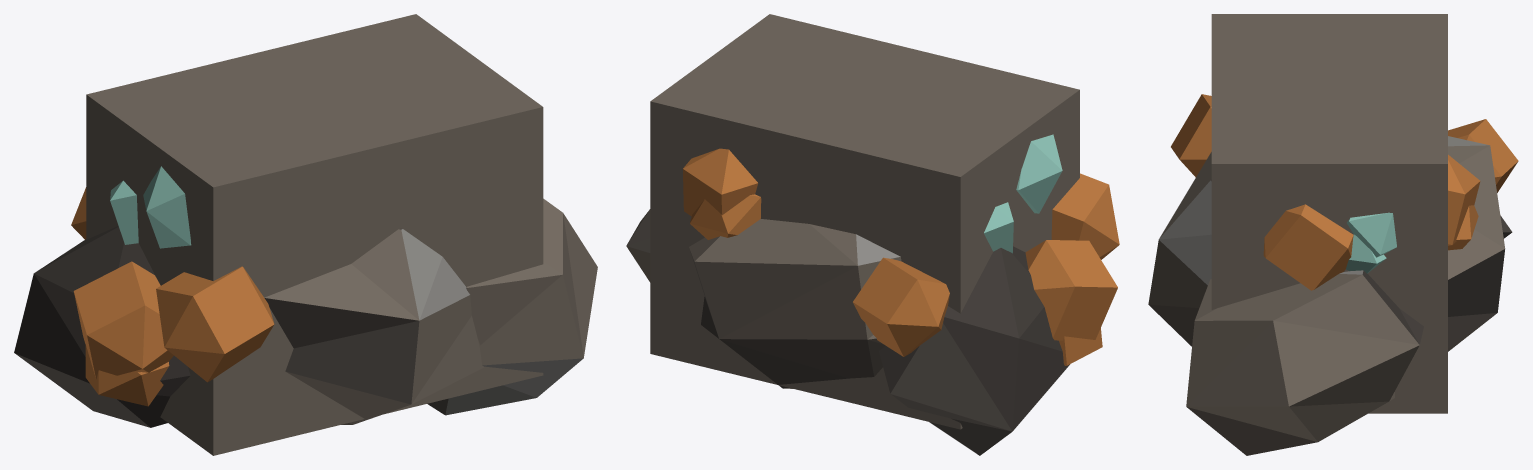
The model's file is Prop_OreVein_Copper.fbx.
The picture shows the model from 3 angles, left to right: view 1: azimuth 30°, elevation 25°; view 2: azimuth 150°, elevation 25°; view 3: azimuth 270°, elevation 25°; orthographic projection. The views are drawn at different scales.
Visible parts, largest first — view 1: Body, Rock; view 2: Body, Rock; view 3: Body, Rock.
Part boxes in pixels (x1,y1,x2,y2): Body: [86, 14, 543, 455]; Rock: [14, 166, 597, 427]; Body: [650, 14, 1079, 429]; Rock: [626, 134, 1119, 455]; Body: [1211, 14, 1447, 413]; Rock: [1148, 94, 1518, 455].
Bounding box in the file's own units: 5.56 × 3.23 × 3.76.
